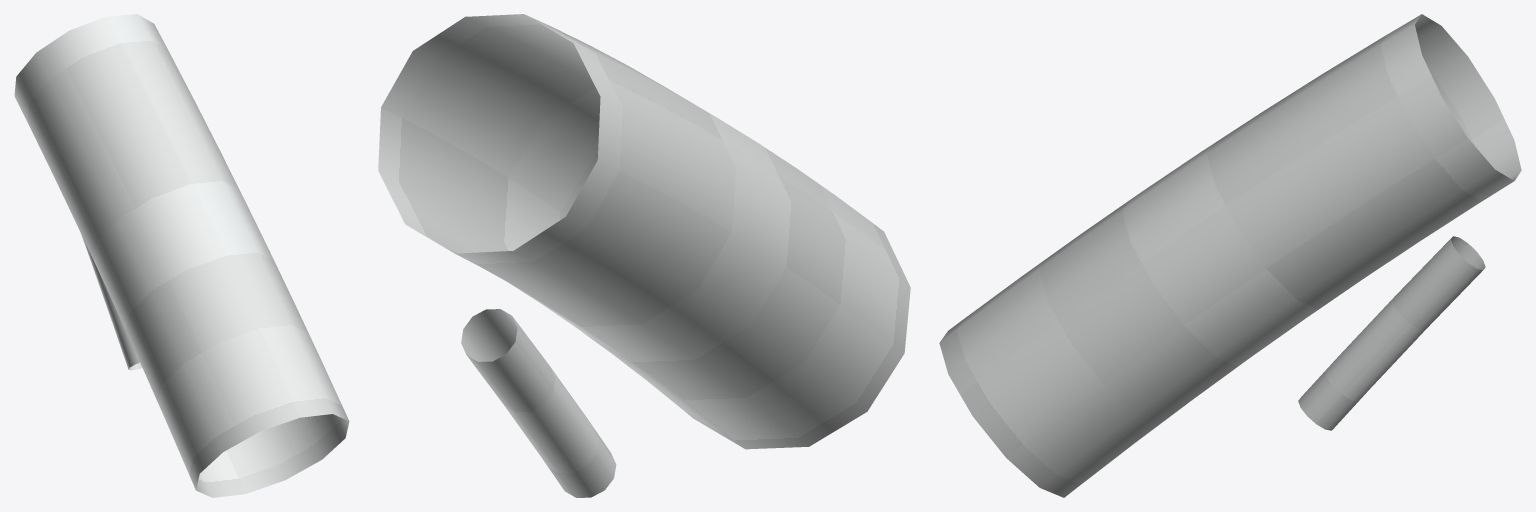
The model's file is luminairearm_laupsweep8ft_c2.obj.
3 renders of one model, left to right at view 1: azimuth 30°, elevation 25°; view 2: azimuth 150°, elevation 25°; view 3: azimuth 270°, elevation 25°, orthographic. The views are drawn at different scales.
Visible parts, largest first — view 1: luminairearm_laupsweep8ft_c2; view 2: luminairearm_laupsweep8ft_c2; view 3: luminairearm_laupsweep8ft_c2.
Boxes of the visible parts, box(x1,y1,x2,y2) form: luminairearm_laupsweep8ft_c2: box(14, 14, 349, 497); luminairearm_laupsweep8ft_c2: box(378, 14, 910, 497); luminairearm_laupsweep8ft_c2: box(939, 14, 1521, 497).
Size of the model in its own units: 0.2496 by 0.6145 by 0.7034.
